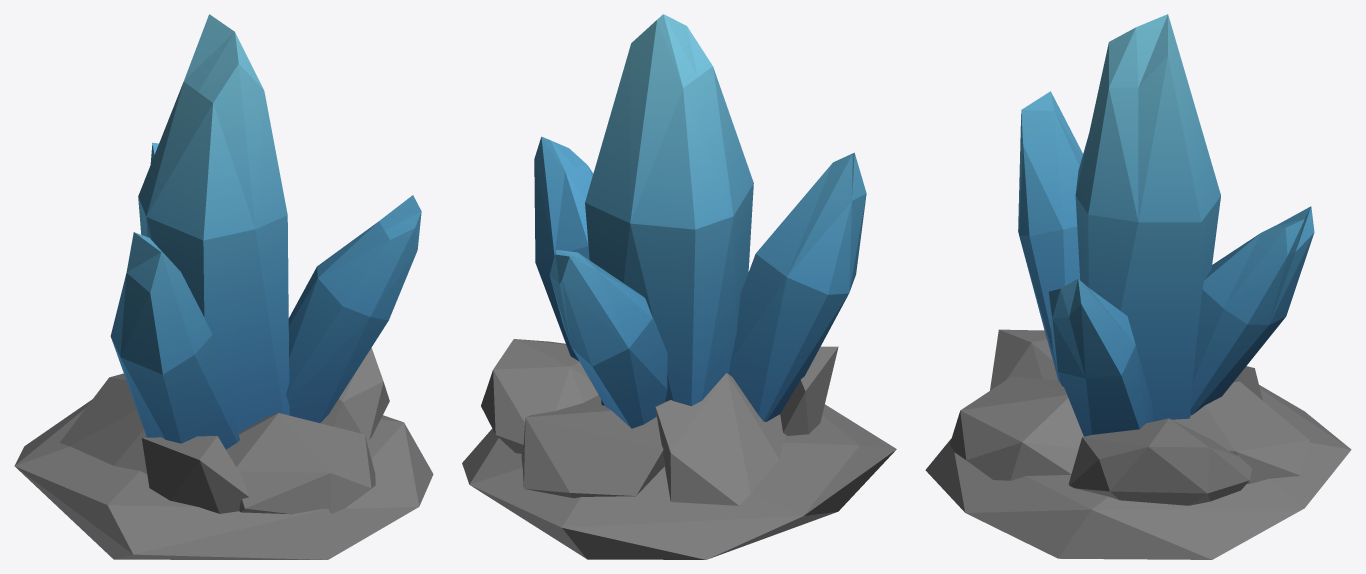
The model's file is Crystal_01.fbx.
3 views of the same model, side by side, from view 1: azimuth 30°, elevation 25°; view 2: azimuth 150°, elevation 25°; view 3: azimuth 270°, elevation 25° (orthographic).
Parts seen in each view (by area): view 1: Crystal_01; view 2: Crystal_01; view 3: Crystal_01.
Part boxes in pixels (x1,y1,x2,y2): Crystal_01: (14,14,433,559); Crystal_01: (462,14,896,559); Crystal_01: (925,14,1351,559).
Size of the model in its own units: 1.01 by 1.39 by 1.1.
